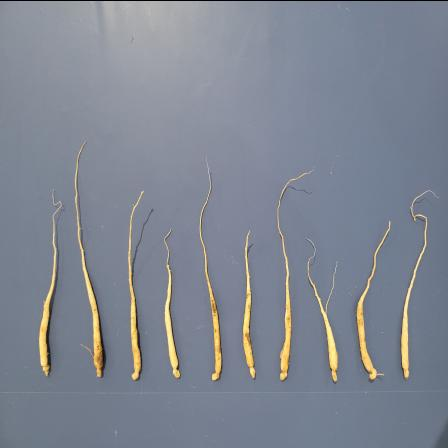Ginseng: (276, 158, 316, 381), (400, 186, 440, 380), (74, 138, 106, 378), (355, 215, 394, 381), (198, 156, 224, 384), (304, 233, 340, 385), (38, 187, 64, 377), (124, 188, 146, 380), (162, 226, 182, 380), (242, 226, 258, 380)
head: (40, 356, 52, 376), (130, 363, 144, 380), (170, 360, 181, 378), (210, 364, 221, 382), (94, 359, 104, 377), (246, 360, 256, 378), (329, 362, 338, 382), (278, 366, 289, 380), (368, 365, 378, 379), (402, 364, 410, 379)
